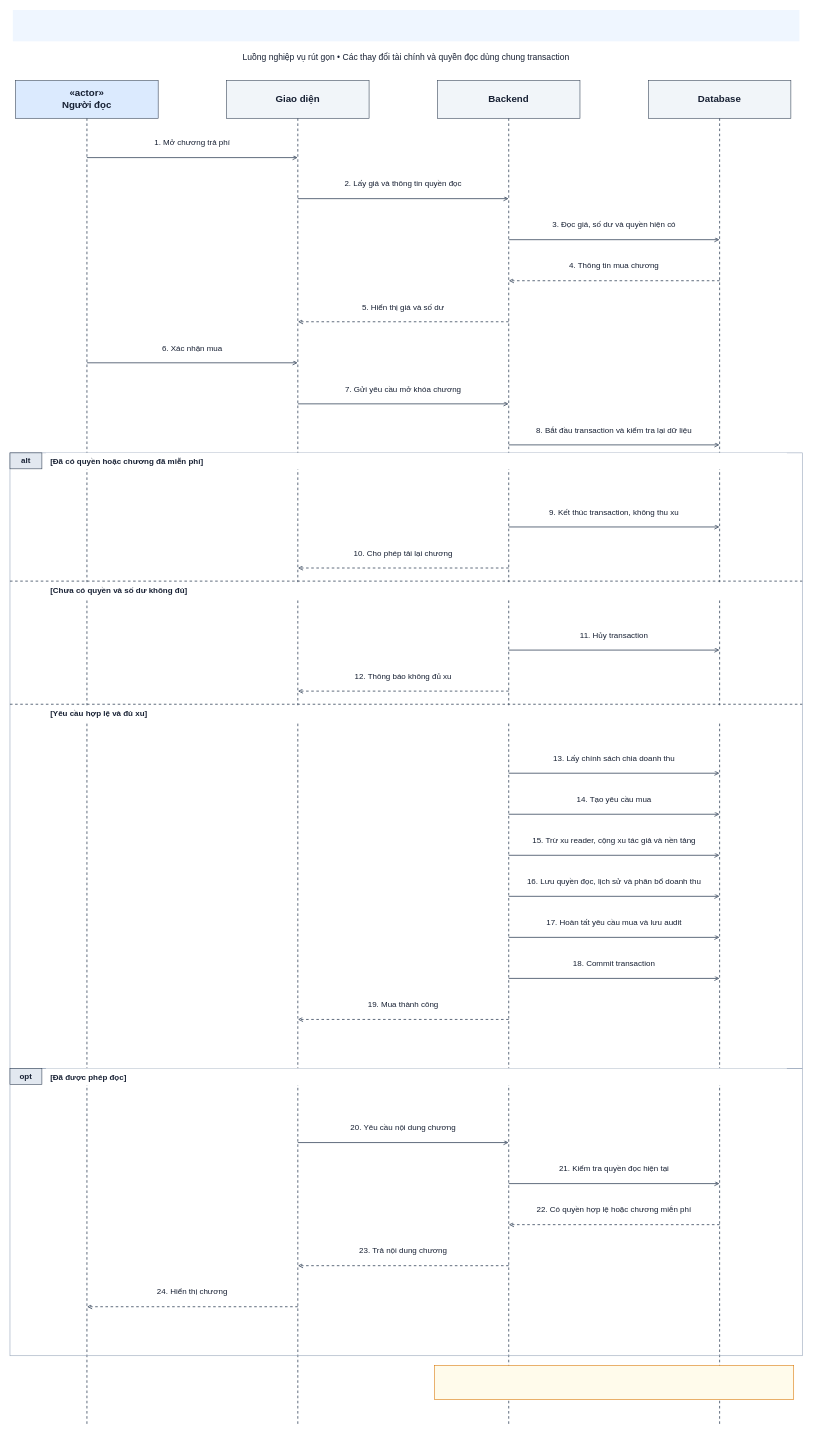
Image size: 813x1436. Some labels were removed from this diagram. Here are the shapes that lost their labels. From the top down, the centre of each, then its label:
At (406,25): "NOVELHUB | MUA QUYỀN ĐỌC CHƯƠNG".
At (614,1382): "Bất kỳ lỗi nào trong transaction đều rollback toàn bộ.".
